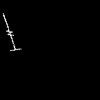treble_crochet: (3, 15, 16, 49)
